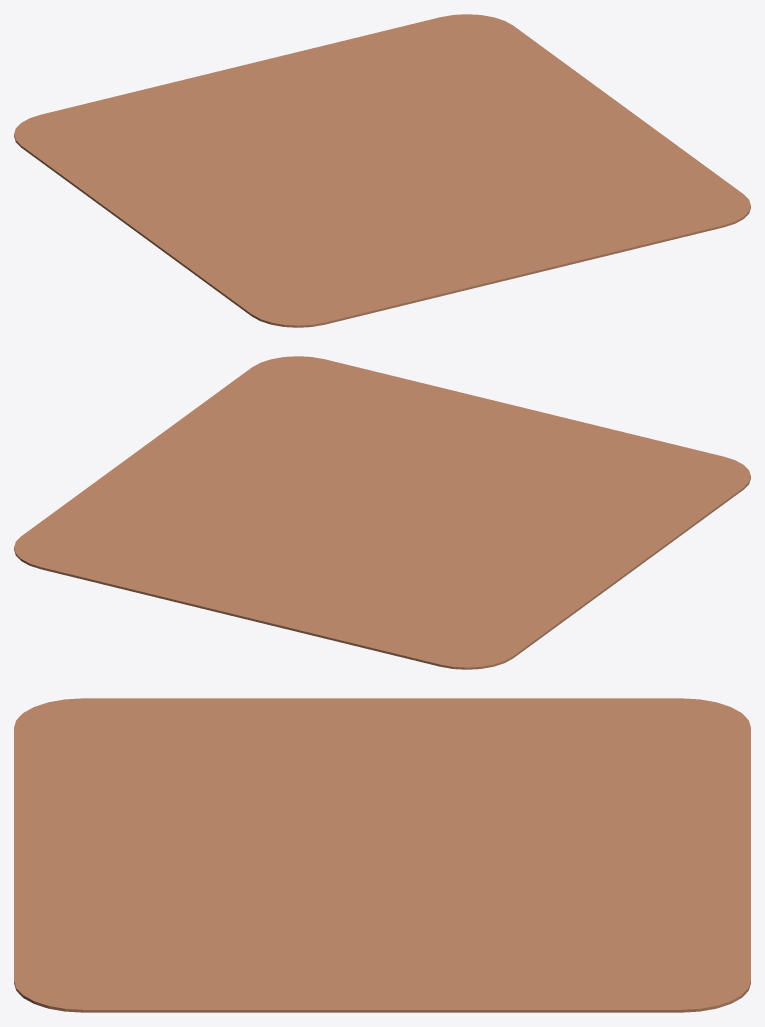
3 views of the same model, one above another, from view 1: azimuth 30°, elevation 25°; view 2: azimuth 150°, elevation 25°; view 3: azimuth 270°, elevation 25° (orthographic). The views are drawn at different scales.
Visible parts, largest first — view 1: COM-02 Floor Surface; view 2: COM-02 Floor Surface; view 3: COM-02 Floor Surface.
Boxes of the visible parts, x1,y1,x2,y2 form: COM-02 Floor Surface: [14, 14, 750, 327]; COM-02 Floor Surface: [14, 356, 750, 669]; COM-02 Floor Surface: [14, 698, 750, 1012].
Bounding box in the file's own units: 192 × 0.8 × 192.
